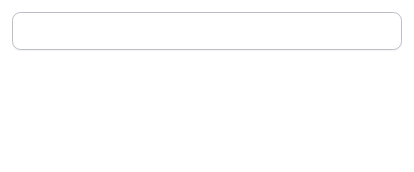
Test: NumericInput in React state › hands the caller the clean text, in the language's own way
The image size is (414, 172).
Type "40.5" into the field named "amount" at (207, 31), box [12, 12, 402, 50]
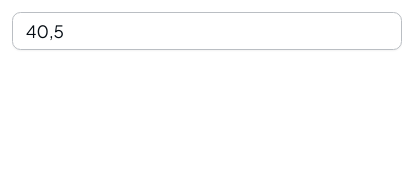
Result: the field named "amount" holds "40,5" at [12, 12, 402, 50]
